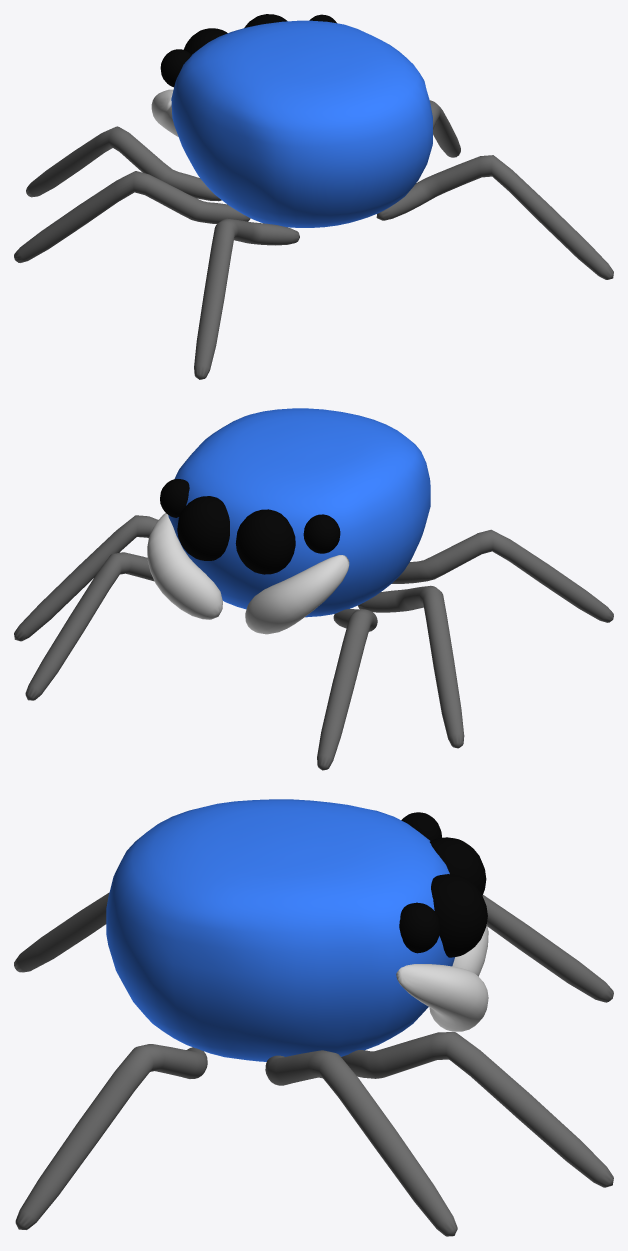
The model's file is Spider13.glb.
3 views of the same model, one above another, from view 1: azimuth 30°, elevation 25°; view 2: azimuth 150°, elevation 25°; view 3: azimuth 270°, elevation 25° (orthographic). The views are drawn at different scales.
Visible parts, largest first — view 1: Head, Leg.004, Leg.003, Leg.005, Leg.001, Leg.002, Pincer.001, Eye.002, Eye; view 2: Head, Leg.005, Leg.003, Pincer.001, Pincer, Leg, Leg.001, Leg.002, Eye, Eye.001, Eye.002, Eye.003; view 3: Head, Leg, Leg.004, Leg.002, Pincer, Leg.001, Eye.001, Leg.005, Eye.003, Eye, Pincer.001, Eye.002.
Boxes of the visible parts, x1,y1,x2,y2 form: Head: (171, 20, 432, 227); Leg.004: (376, 155, 613, 279); Leg.003: (14, 171, 250, 262); Leg.005: (194, 218, 299, 379); Leg.001: (26, 126, 221, 201); Leg.002: (430, 100, 460, 157); Pincer.001: (151, 89, 178, 136); Eye.002: (160, 49, 191, 87); Eye: (183, 28, 227, 54); Head: (168, 408, 430, 617); Leg.005: (392, 529, 613, 622); Leg.003: (357, 585, 464, 748); Pincer.001: (245, 555, 349, 634); Pincer: (147, 513, 222, 619); Leg: (25, 552, 154, 700); Leg.001: (317, 609, 377, 770); Leg.002: (14, 515, 158, 641); Eye: (235, 509, 295, 574); Eye.001: (177, 496, 229, 560); Eye.002: (303, 514, 340, 553); Eye.003: (160, 479, 189, 517); Head: (106, 799, 454, 1061); Leg: (341, 1032, 613, 1187); Leg.004: (15, 1044, 207, 1229); Leg.002: (265, 1050, 457, 1236); Pincer: (396, 964, 488, 1031); Leg.001: (482, 895, 613, 1002); Eye.001: (431, 874, 487, 957); Leg.005: (14, 892, 109, 972); Eye.003: (399, 902, 440, 953); Eye: (430, 837, 486, 895); Pincer.001: (452, 924, 488, 976); Eye.002: (401, 812, 442, 840).
Size of what is drawn, in the model's own units: 0.3311 by 0.1445 by 0.2982.
